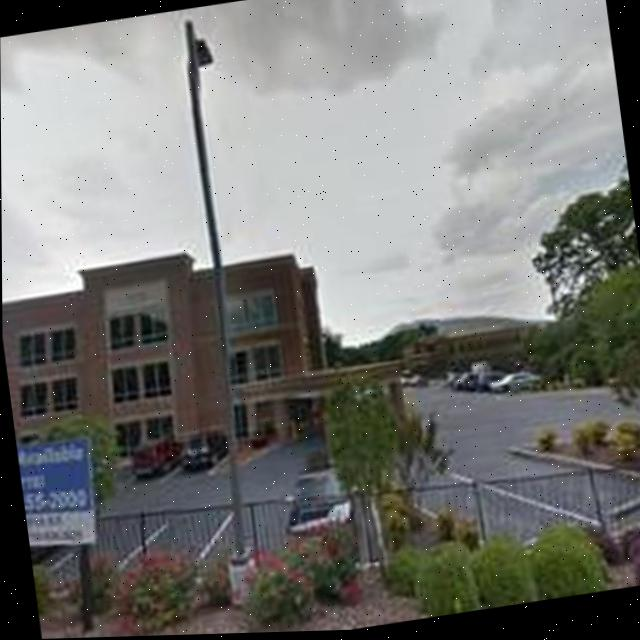building: (2, 230, 334, 478), (397, 314, 545, 382)
